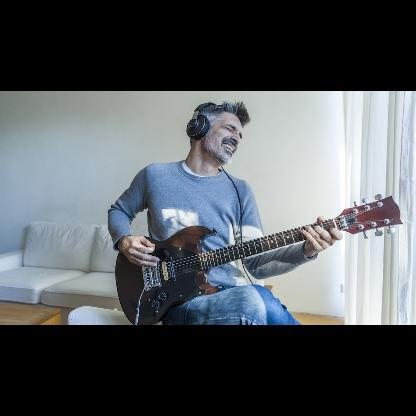guitar: (114, 191, 404, 324)
